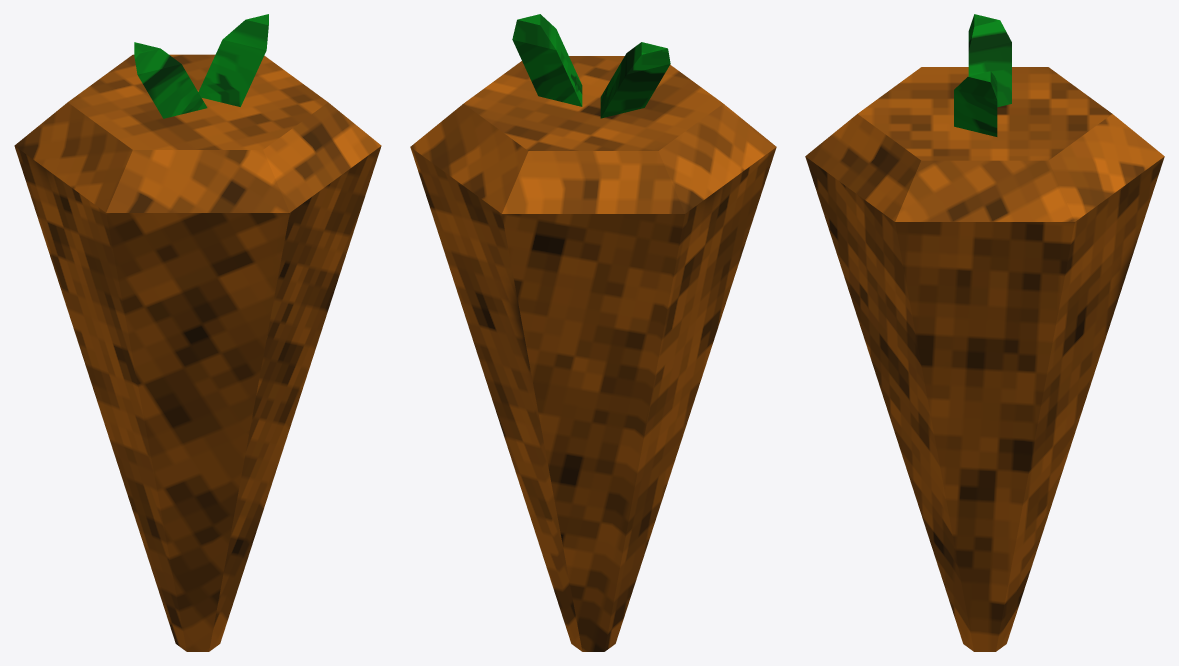
The model's file is Carrot.fbx.
3 renders of one model, left to right at view 1: azimuth 30°, elevation 25°; view 2: azimuth 150°, elevation 25°; view 3: azimuth 270°, elevation 25°, orthographic. The views are drawn at different scales.
Parts seen in each view (by area): view 1: Carrot; view 2: Carrot; view 3: Carrot.
Part boxes in pixels (box(x1,y1,x2,y2)): Carrot: box(14, 14, 381, 651); Carrot: box(410, 14, 776, 651); Carrot: box(805, 14, 1164, 651).
Bounding box in the file's own units: 74.55 × 158 × 86.09.
1 material, 1 textured.
